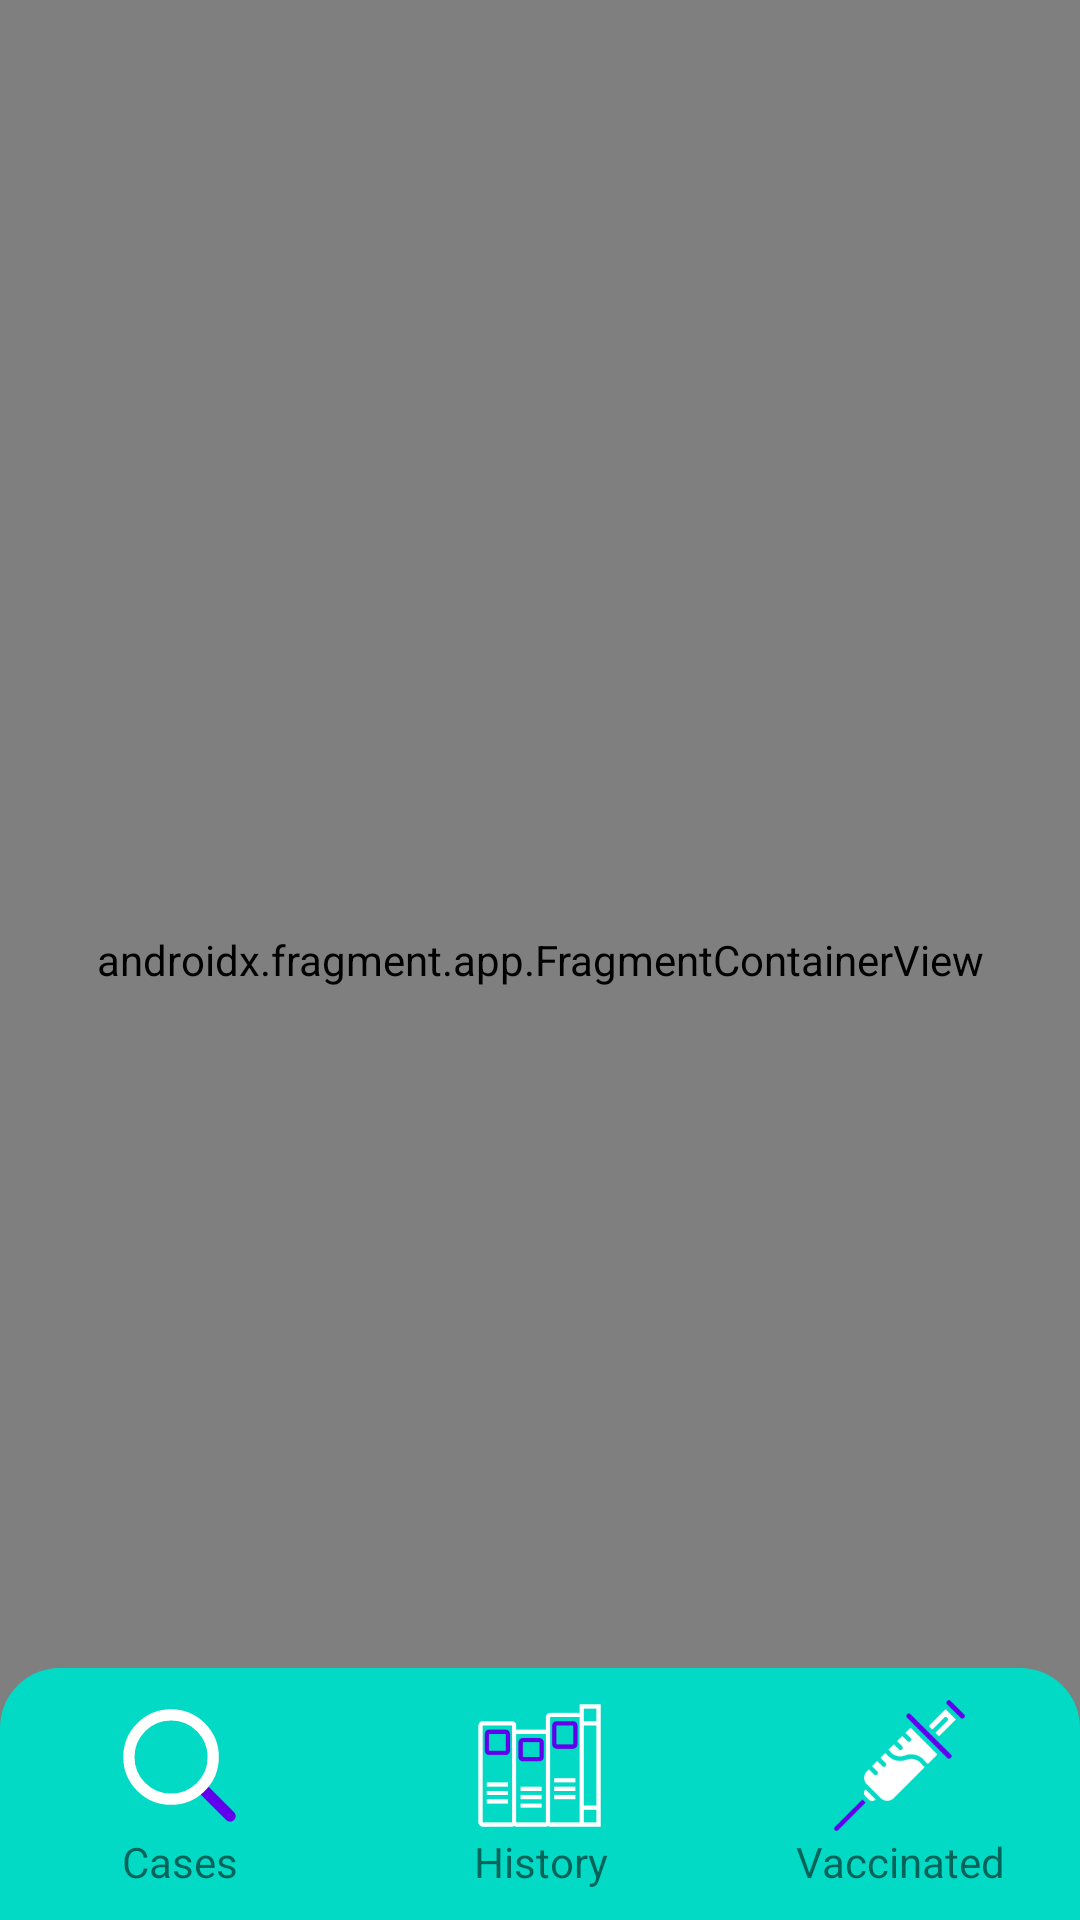

Point at icon controls on the screen. Image size 1080 x 1920, points as [x,y].
search: [179,1765]
